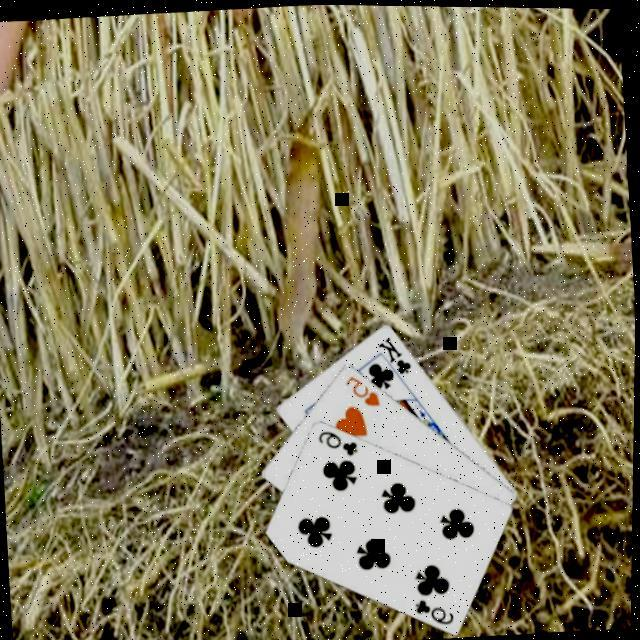5H: (343, 367, 386, 409)
6C: (316, 422, 363, 458), (414, 590, 461, 626)
KC: (376, 329, 419, 384)
